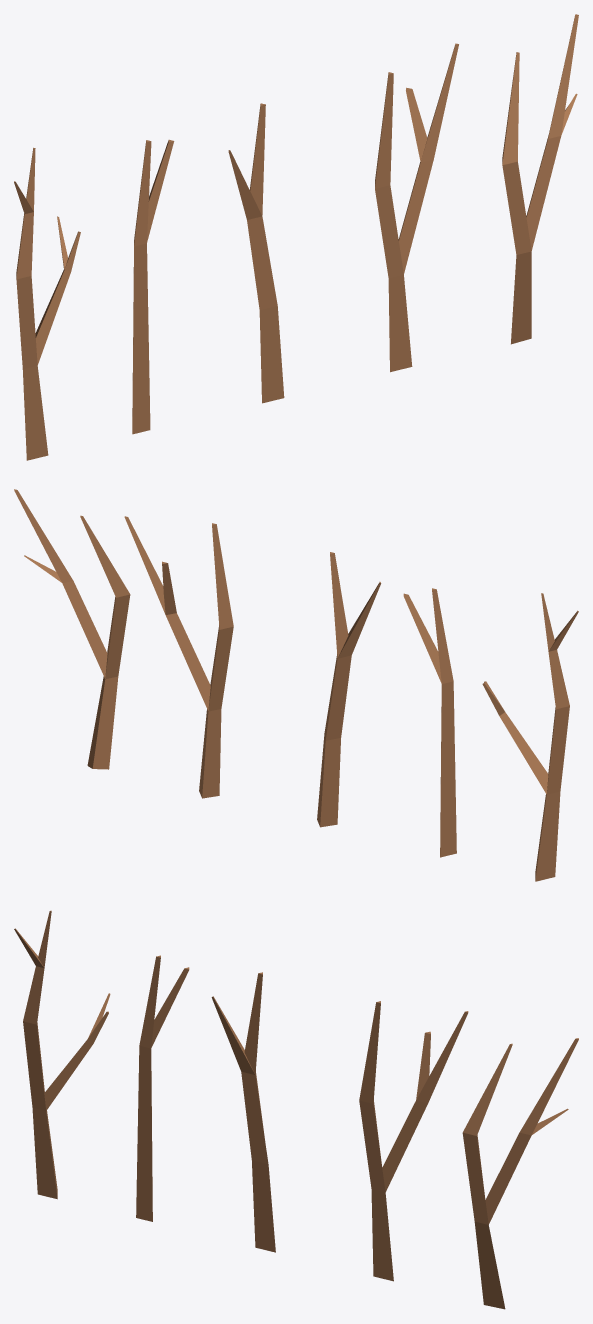
The model's file is Stick.fbx.
3 views of the same model, one above another, from view 1: azimuth 30°, elevation 25°; view 2: azimuth 150°, elevation 25°; view 3: azimuth 330°, elevation 25° (orthographic). The views are drawn at different scales.
Parts seen in each view (by area): view 1: Cylinder.008, Cylinder.010, Cylinder.007, Cylinder.006, Cylinder.009; view 2: Cylinder.008, Cylinder.010, Cylinder.007, Cylinder.006, Cylinder.009; view 3: Cylinder.008, Cylinder.010, Cylinder.007, Cylinder.006, Cylinder.009.
Part boxes in pixels (<box>): Cylinder.008: <box>375,43,458,372</box>; Cylinder.010: <box>502,14,578,344</box>; Cylinder.007: <box>14,147,80,460</box>; Cylinder.006: <box>228,103,284,403</box>; Cylinder.009: <box>132,139,174,434</box>; Cylinder.008: <box>124,516,233,798</box>; Cylinder.010: <box>14,489,130,769</box>; Cylinder.007: <box>482,593,578,881</box>; Cylinder.006: <box>317,552,381,827</box>; Cylinder.009: <box>403,588,456,857</box>; Cylinder.008: <box>359,1001,468,1281</box>; Cylinder.010: <box>462,1038,578,1309</box>; Cylinder.007: <box>14,910,110,1199</box>; Cylinder.006: <box>211,972,275,1252</box>; Cylinder.009: <box>136,955,189,1221</box>.
Size of the model in its own units: 401 by 201 by 38.04.
